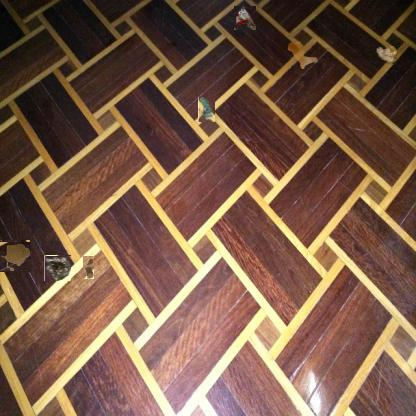dirty: (44, 255, 71, 281), (234, 6, 256, 30), (198, 98, 215, 124), (375, 46, 397, 64), (82, 256, 94, 280)
liquid: (0, 241, 31, 272), (286, 40, 318, 70)
